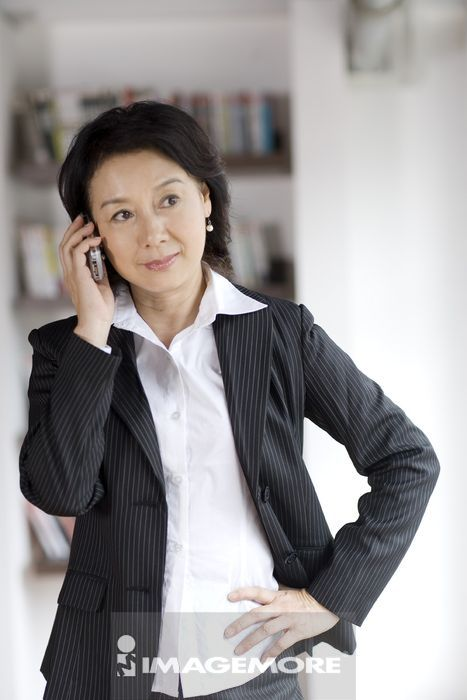talk: (60, 171, 201, 337)
